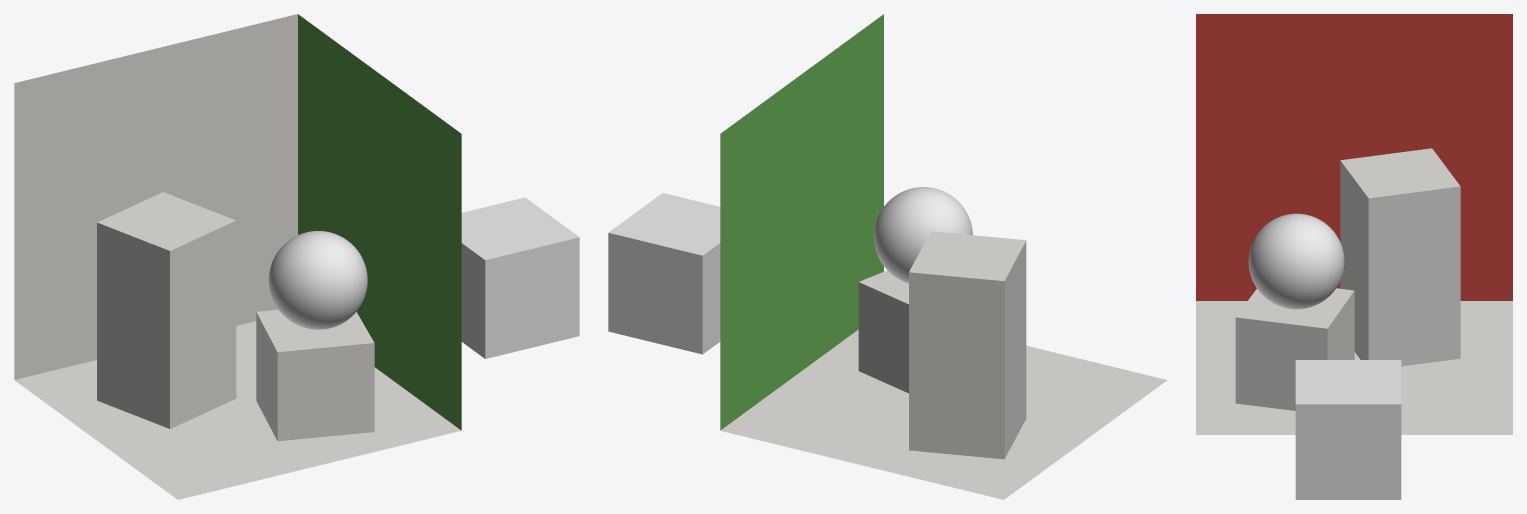
File: CornellWithSphere.gltf
3 views of the same model, side by side, from view 1: azimuth 30°, elevation 25°; view 2: azimuth 150°, elevation 25°; view 3: azimuth 270°, elevation 25° (orthographic). The views are drawn at different scales.
Visible parts, largest first — view 1: cornell.001, cornell, Cube, Icosphere; view 2: cornell.001, cornell, Cube, Icosphere; view 3: cornell.002, cornell.001, Cube, Icosphere.
Boxes of the visible parts, x1,y1,x2,y2 form: cornell.001: [14, 14, 461, 499]; cornell: [298, 14, 461, 430]; Cube: [461, 197, 579, 358]; Icosphere: [268, 231, 367, 329]; cornell.001: [720, 231, 1167, 499]; cornell: [720, 14, 883, 430]; Cube: [608, 193, 720, 354]; Icosphere: [874, 187, 972, 283]; cornell.002: [1196, 14, 1512, 300]; cornell.001: [1196, 148, 1512, 434]; Cube: [1295, 360, 1401, 499]; Icosphere: [1248, 213, 1344, 309].
Bounding box in the file's own units: 3.2 × 2.02 × 2.
